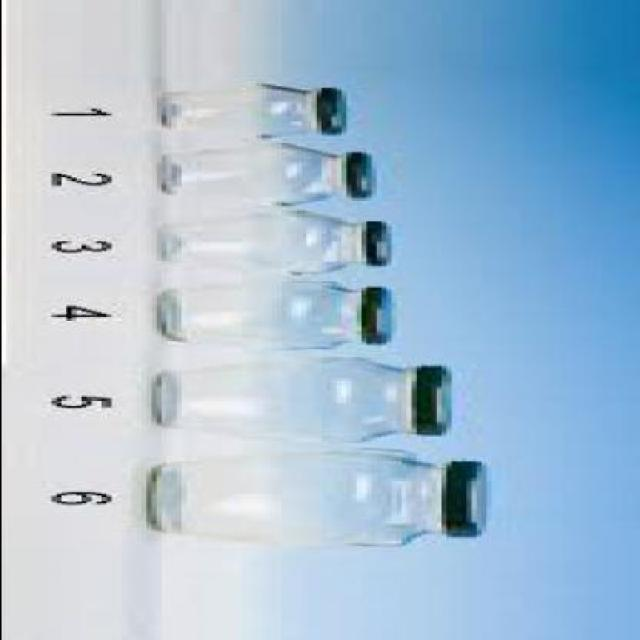GLASS: (150, 450, 450, 544), (160, 356, 420, 442), (160, 278, 365, 349), (164, 208, 364, 275), (160, 140, 345, 205), (164, 82, 316, 138)
METAL: (410, 362, 455, 436), (450, 458, 485, 536), (370, 286, 405, 343), (360, 218, 395, 264), (315, 87, 350, 133), (349, 150, 380, 198)
